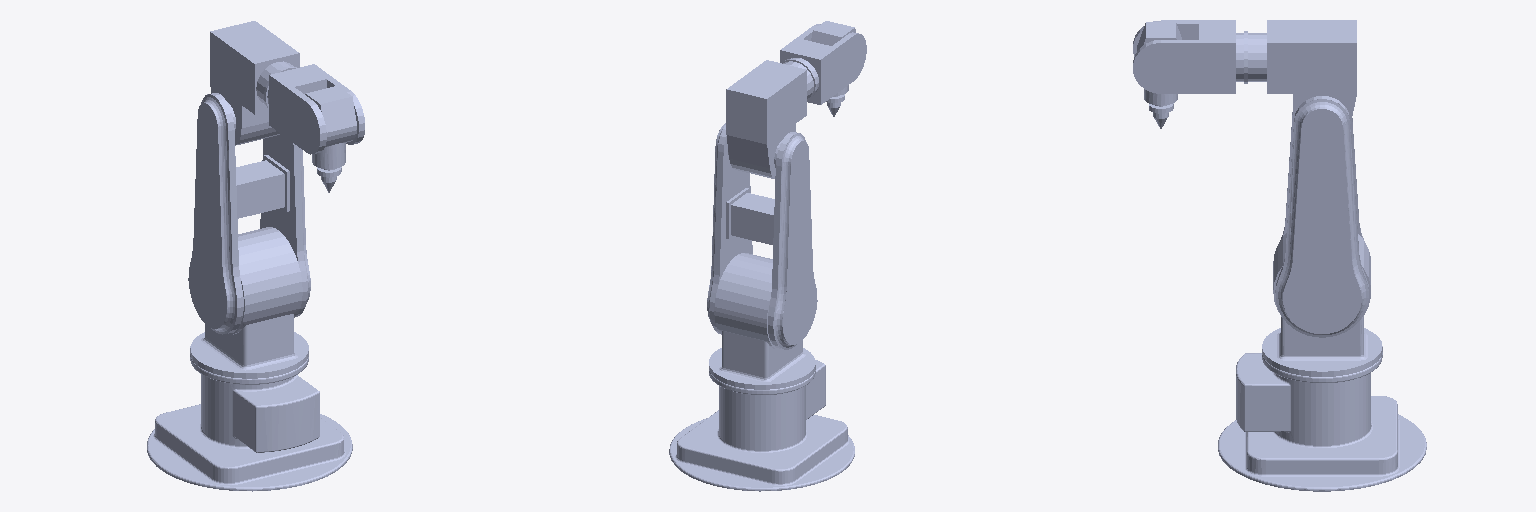
URDF robot description (robot_arm_urdf):
<?xml version="1.0" encoding="utf-8"?>
<!-- This URDF was automatically created by SolidWorks to URDF Exporter! Originally created by [author] ([email redacted]) 
     Commit Version: 1.6.0-4-g7f85cfe  Build Version: 1.6.7995.38578
     For more information, please see http://wiki.ros.org/sw_urdf_exporter -->
<robot
  name="robot_arm_urdf">
  <link
    name="base_link">
    <inertial>
      <origin
        xyz="-1.2575E-09 -0.027053 0.092603"
        rpy="0 0 0" />
      <mass
        value="18.605" />
      <inertia
        ixx="0.39088"
        ixy="-2.2653E-09"
        ixz="6.023E-08"
        iyy="0.32704"
        iyz="0.033922"
        izz="0.4586" />
    </inertial>
    <visual>
      <origin
        xyz="0 0 0"
        rpy="0 0 0" />
      <geometry>
        <mesh
          filename="package://robot_arm_urdf/meshes/base_link.STL" />
      </geometry>
      <material
        name="">
        <color
          rgba="0.79608 0.82353 0.93725 1" />
      </material>
    </visual>
    <collision>
      <origin
        xyz="0 0 0"
        rpy="0 0 0" />
      <geometry>
        <mesh
          filename="package://robot_arm_urdf/meshes/base_link.STL" />
      </geometry>
    </collision>
  </link>
  <link
    name="Link_1">
    <inertial>
      <origin
        xyz="8.3267E-17 -1.5609E-10 0.37299"
        rpy="0 0 0" />
      <mass
        value="14.531" />
      <inertia
        ixx="0.30828"
        ixy="1.2567E-09"
        ixz="9.0971E-18"
        iyy="0.28156"
        iyz="-1.2683E-09"
        izz="0.10969" />
    </inertial>
    <visual>
      <origin
        xyz="0 0 0"
        rpy="0 0 0" />
      <geometry>
        <mesh
          filename="package://robot_arm_urdf/meshes/Link_1.STL" />
      </geometry>
      <material
        name="">
        <color
          rgba="0.79216 0.81961 0.93333 1" />
      </material>
    </visual>
    <collision>
      <origin
        xyz="0 0 0"
        rpy="0 0 0" />
      <geometry>
        <mesh
          filename="package://robot_arm_urdf/meshes/Link_1.STL" />
      </geometry>
    </collision>
  </link>
  <joint
    name="Joint_1"
    type="revolute">
    <origin
      xyz="0 0 0"
      rpy="0 0 0" />
    <parent
      link="base_link" />
    <child
      link="Link_1" />
    <axis
      xyz="0 0 1" />
    <limit
      lower="0"
      upper="3.142"
      effort="300"
      velocity="3" />
  </joint>
  <link
    name="Link_2">
    <inertial>
      <origin
        xyz="-2.7756E-17 -1.1102E-16 0.19184"
        rpy="0 0 0" />
      <mass
        value="15.515" />
      <inertia
        ixx="0.6213"
        ixy="-2.5437E-10"
        ixz="1.0095E-16"
        iyy="0.71576"
        iyz="-2.0155E-16"
        izz="0.15719" />
    </inertial>
    <visual>
      <origin
        xyz="0 0 0"
        rpy="0 0 0" />
      <geometry>
        <mesh
          filename="package://robot_arm_urdf/meshes/Link_2.STL" />
      </geometry>
      <material
        name="">
        <color
          rgba="0.79216 0.81961 0.93333 1" />
      </material>
    </visual>
    <collision>
      <origin
        xyz="0 0 0"
        rpy="0 0 0" />
      <geometry>
        <mesh
          filename="package://robot_arm_urdf/meshes/Link_2.STL" />
      </geometry>
    </collision>
  </link>
  <joint
    name="Joint_2"
    type="revolute">
    <origin
      xyz="0 0 0.496"
      rpy="0 0 0" />
    <parent
      link="Link_1" />
    <child
      link="Link_2" />
    <axis
      xyz="1 0 0" />
    <limit
      lower="-1.57"
      upper="1.57"
      effort="200"
      velocity="3" />
  </joint>
  <link
    name="Link_3">
    <inertial>
      <origin
        xyz="-1.9429E-16 -0.13934 0.12371"
        rpy="0 0 0" />
      <mass
        value="11.784" />
      <inertia
        ixx="0.36062"
        ixy="-1.0774E-16"
        ixz="3.6989E-18"
        iyy="0.069666"
        iyz="0.035639"
        izz="0.3308" />
    </inertial>
    <visual>
      <origin
        xyz="0 0 0"
        rpy="0 0 0" />
      <geometry>
        <mesh
          filename="package://robot_arm_urdf/meshes/Link_3.STL" />
      </geometry>
      <material
        name="">
        <color
          rgba="0.79216 0.81961 0.93333 1" />
      </material>
    </visual>
    <collision>
      <origin
        xyz="0 0 0"
        rpy="0 0 0" />
      <geometry>
        <mesh
          filename="package://robot_arm_urdf/meshes/Link_3.STL" />
      </geometry>
    </collision>
  </link>
  <joint
    name="Joint_3"
    type="revolute">
    <origin
      xyz="0 0 0.5"
      rpy="0 0 0" />
    <parent
      link="Link_2" />
    <child
      link="Link_3" />
    <axis
      xyz="-1 0 0" />
    <limit
      lower="0"
      upper="3.142"
      effort="200"
      velocity="3" />
  </joint>
  <link
    name="Link_4">
    <inertial>
      <origin
        xyz="-2.9563E-09 -2.4435E-08 -0.031744"
        rpy="0 0 0" />
      <mass
        value="1.2204" />
      <inertia
        ixx="0.0077309"
        ixy="-3.8096E-10"
        ixz="-8.6198E-11"
        iyy="0.0072637"
        iyz="-1.4407E-10"
        izz="0.0020917" />
    </inertial>
    <visual>
      <origin
        xyz="0 0 0"
        rpy="0 0 0" />
      <geometry>
        <mesh
          filename="package://robot_arm_urdf/meshes/Link_4.STL" />
      </geometry>
      <material
        name="">
        <color
          rgba="0.79216 0.81961 0.93333 1" />
      </material>
    </visual>
    <collision>
      <origin
        xyz="0 0 0"
        rpy="0 0 0" />
      <geometry>
        <mesh
          filename="package://robot_arm_urdf/meshes/Link_4.STL" />
      </geometry>
    </collision>
  </link>
  <joint
    name="Joint_4"
    type="revolute">
    <origin
      xyz="0 -0.42744 0.145"
      rpy="0 0 0" />
    <parent
      link="Link_3" />
    <child
      link="Link_4" />
    <axis
      xyz="-1 0 0" />
    <limit
      lower="0"
      upper="-3.142"
      effort="200"
      velocity="3" />
  </joint>
</robot>

--- Facts derived from the render (not from the file) ---
Views: 3 orthographic renders of the robot side by side, from view 1: azimuth 30°, elevation 25°; view 2: azimuth 150°, elevation 25°; view 3: azimuth 270°, elevation 25°.
Model robot_arm_urdf with 5 links and 4 joints (4 revolute), rooted at base_link, posed every joint at zero.
Visible links, largest first — view 1: base_link, Link_2, Link_3, Link_1, Link_4; view 2: base_link, Link_2, Link_3, Link_1, Link_4; view 3: base_link, Link_2, Link_3, Link_1, Link_4.
Link boxes in pixels (x1,y1,x2,y2): base_link: (147, 354, 352, 491); Link_2: (188, 93, 310, 334); Link_3: (210, 21, 364, 154); Link_1: (190, 227, 308, 378); Link_4: (305, 86, 356, 192); base_link: (669, 360, 854, 491); Link_2: (707, 123, 817, 349); Link_3: (726, 24, 866, 178); Link_1: (709, 253, 815, 389); Link_4: (811, 21, 855, 116); base_link: (1218, 352, 1426, 491); Link_2: (1275, 96, 1368, 337); Link_3: (1133, 20, 1356, 120); Link_1: (1262, 233, 1382, 376); Link_4: (1137, 22, 1181, 128).
Size in the robot's own frame: 0.555 by 0.7792 by 1.22 metres.
Meshes: 5 distinct files referenced, 5 mesh visuals loaded (5 binary STL).